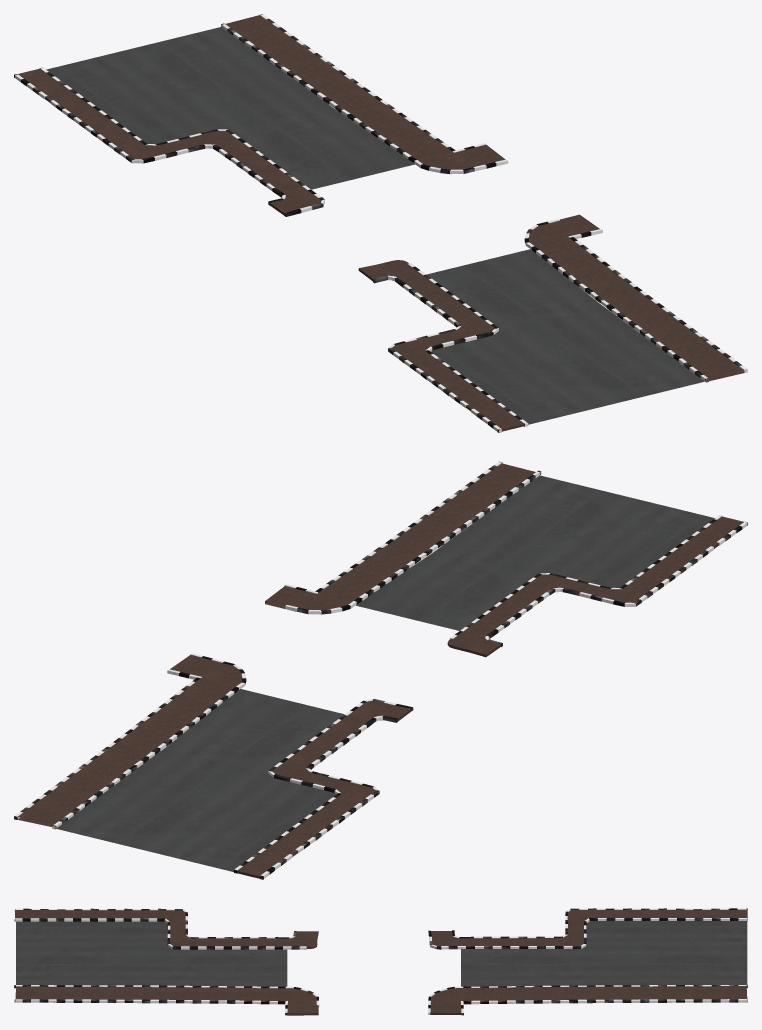
The model's file is HouseParkings.fbx.
3 renders of one model, top to bottom at view 1: azimuth 30°, elevation 25°; view 2: azimuth 150°, elevation 25°; view 3: azimuth 270°, elevation 25°, orthographic. The views are drawn at different scales.
Visible parts, largest first — view 1: polySurface380, polySurface446; view 2: polySurface380, polySurface446; view 3: polySurface380, polySurface446.
Part boxes in pixels (<box>): polySurface380: <box>14,14,508,216</box>; polySurface446: <box>358,214,747,432</box>; polySurface380: <box>14,653,413,879</box>; polySurface446: <box>265,461,747,657</box>; polySurface380: <box>428,908,747,1015</box>; polySurface446: <box>14,908,319,1015</box>.
Size of the model in its own units: 1836 by 26.45 by 5448.
Materials: 4 (4 with a texture image).
